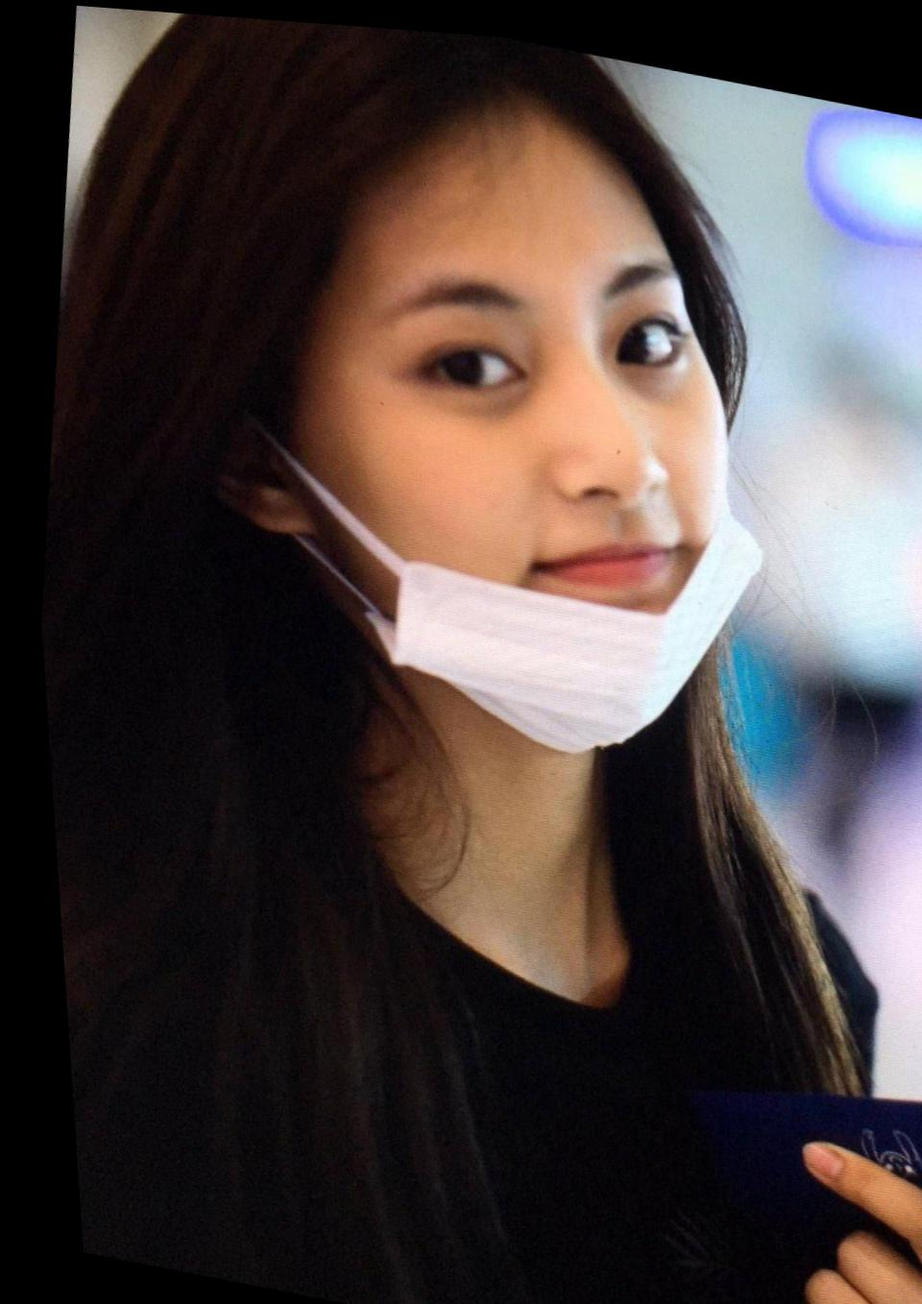WRONG: (258, 146, 776, 760)
